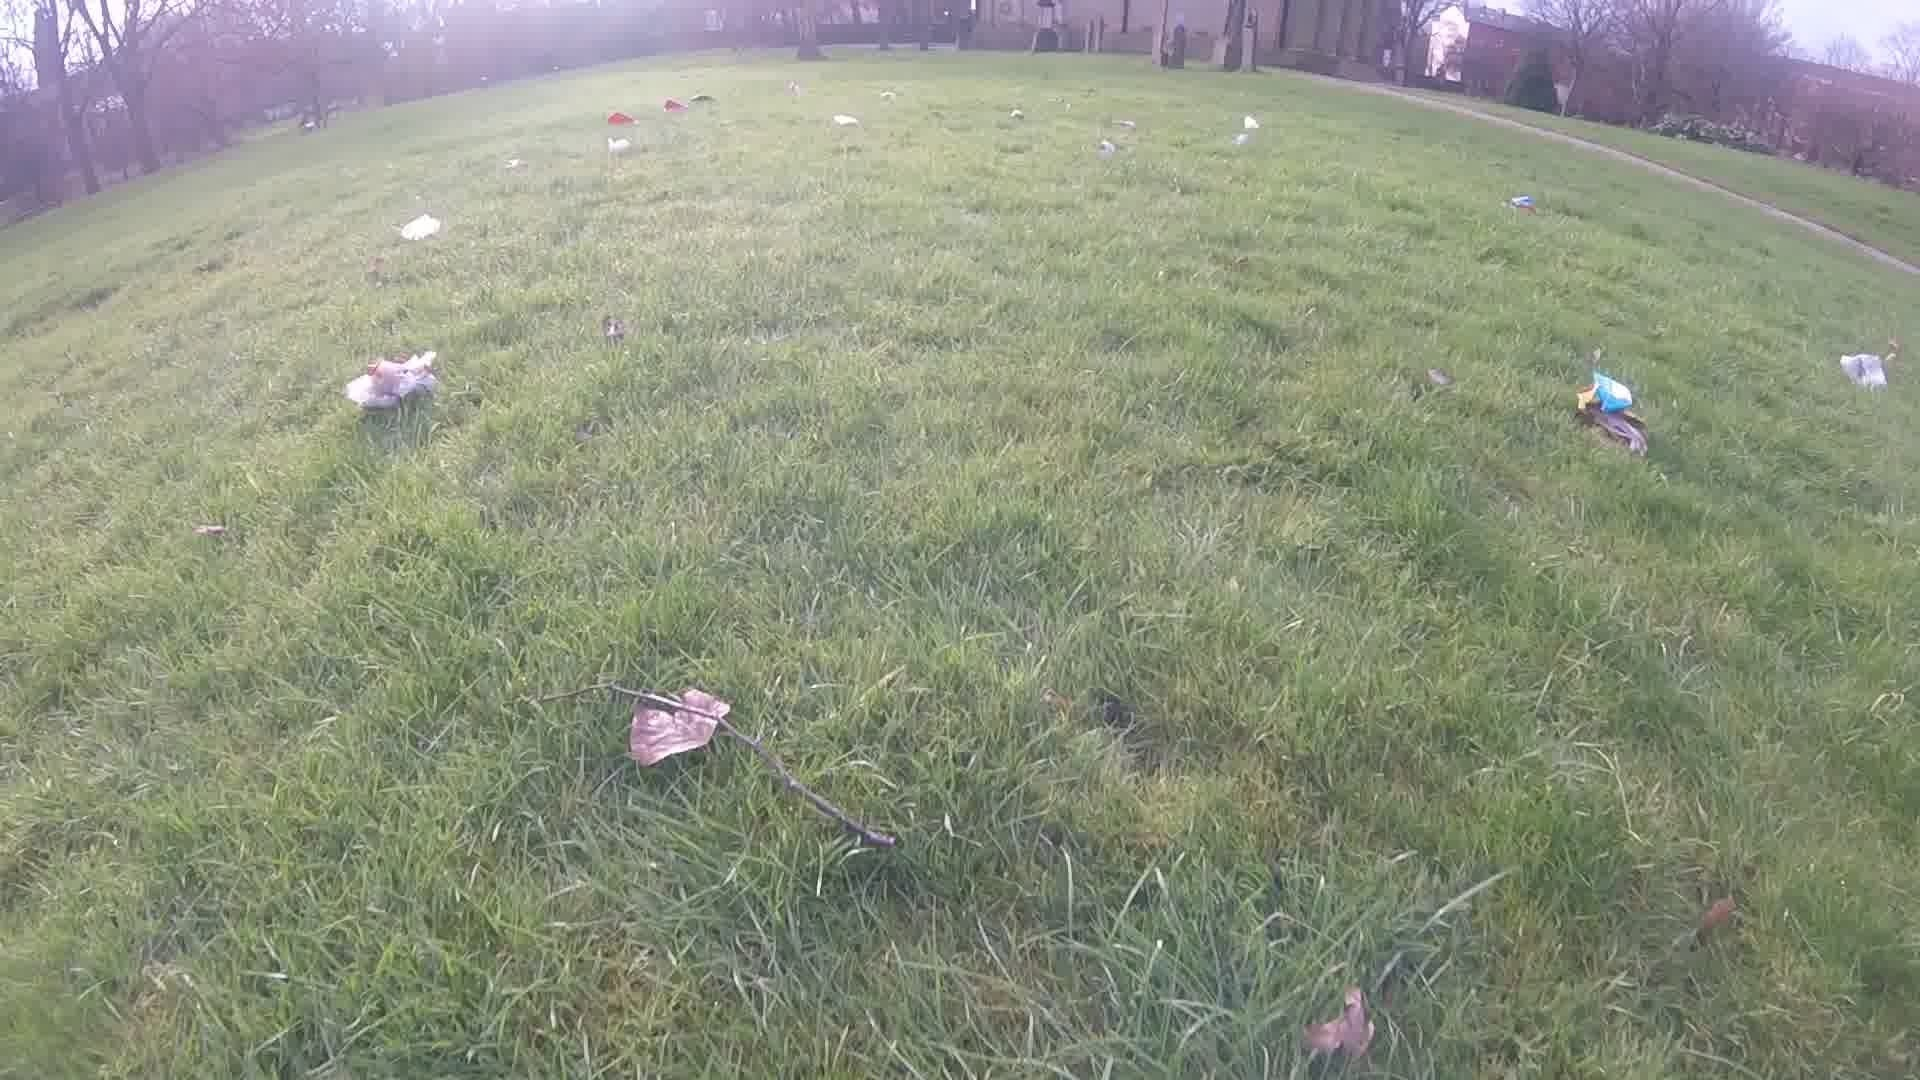litter: (1578, 371, 1648, 462), (343, 349, 436, 411), (1840, 353, 1888, 392), (400, 214, 442, 243), (603, 108, 642, 125), (1505, 196, 1540, 212), (1093, 138, 1120, 156), (829, 112, 860, 127), (658, 98, 684, 112), (1104, 119, 1135, 131), (1241, 112, 1258, 131), (604, 138, 628, 152), (686, 94, 716, 103), (785, 80, 800, 98), (502, 160, 524, 171), (1011, 105, 1025, 120), (874, 90, 891, 100), (1233, 135, 1247, 146)
